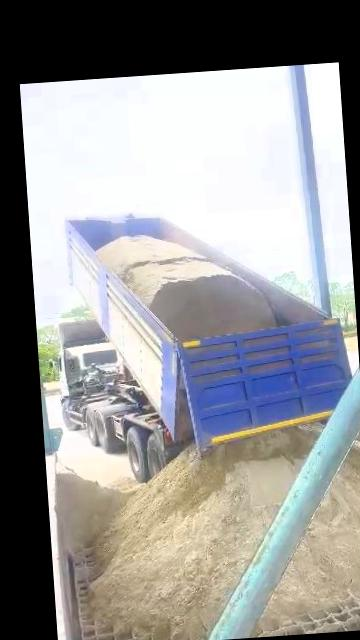sand: (92, 429, 317, 640), (97, 236, 276, 341), (258, 450, 360, 632), (57, 465, 129, 551), (177, 388, 193, 440)
